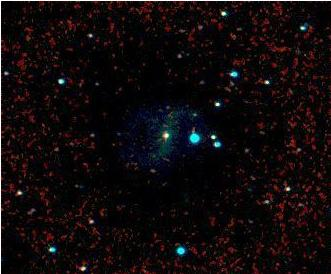star: (158, 119, 188, 149)
